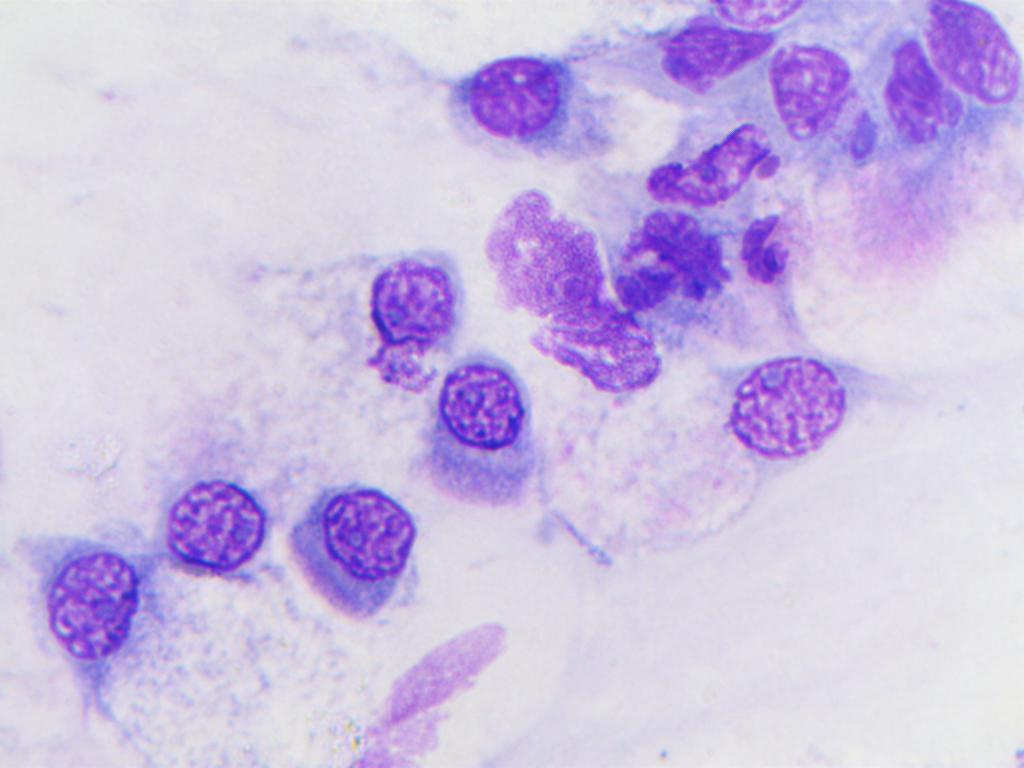artifact: (486, 180, 664, 400), (648, 114, 779, 230), (642, 18, 777, 100), (872, 32, 962, 148)
epithelial: (606, 206, 742, 322), (907, 2, 1024, 118), (759, 31, 856, 147)
lymphocyte: (149, 437, 300, 617), (287, 456, 419, 634), (262, 249, 466, 361), (443, 32, 598, 174), (712, 341, 867, 483), (416, 348, 547, 502), (32, 547, 149, 690)
